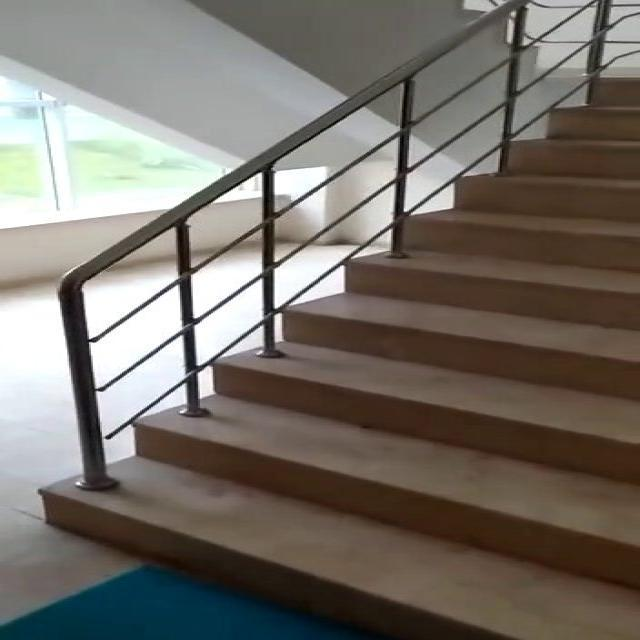stairs: (38, 74, 638, 639)
